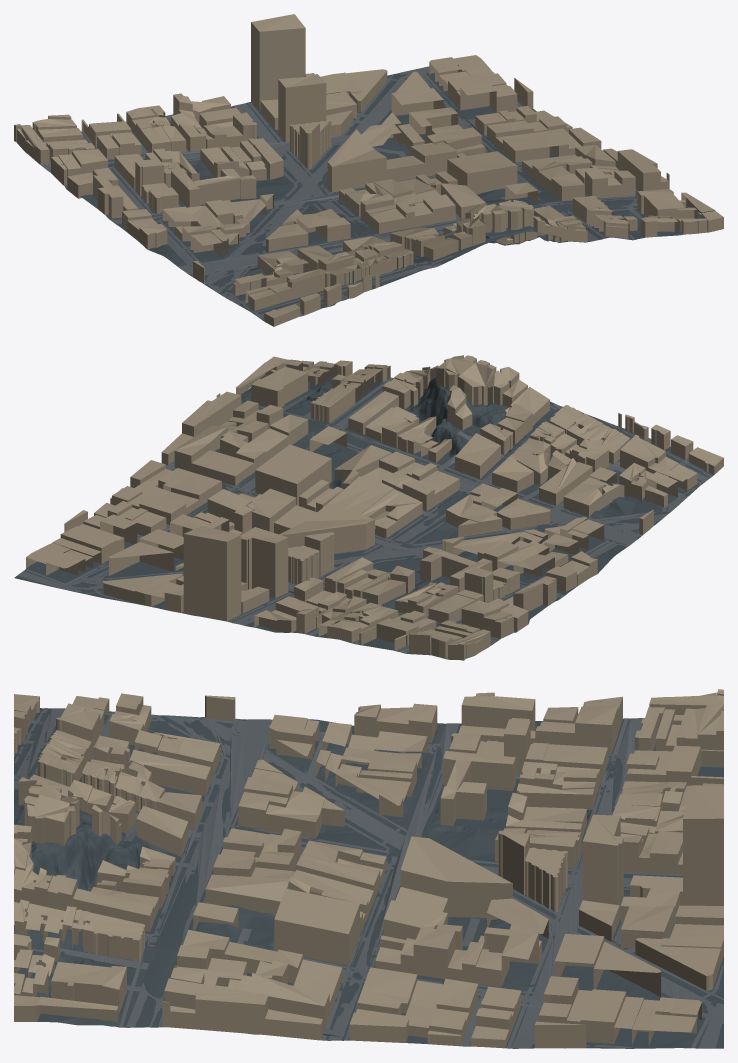
File: epsg26910-1438-10894.lod0.glb
The picture shows the model from 3 angles, top to bottom: view 1: azimuth 30°, elevation 25°; view 2: azimuth 150°, elevation 25°; view 3: azimuth 270°, elevation 25°; orthographic projection. The views are drawn at different scales.
Parts seen in each view (by area): view 1: epsg26910-1438-10894-lod0; view 2: epsg26910-1438-10894-lod0; view 3: epsg26910-1438-10894-lod0.
Part boxes in pixels (x1,y1,x2,y2): epsg26910-1438-10894-lod0: (14,14,723,326); epsg26910-1438-10894-lod0: (14,355,723,660); epsg26910-1438-10894-lod0: (14,689,723,1048).
Size of the model in its own units: 384 by 72.03 by 384.
